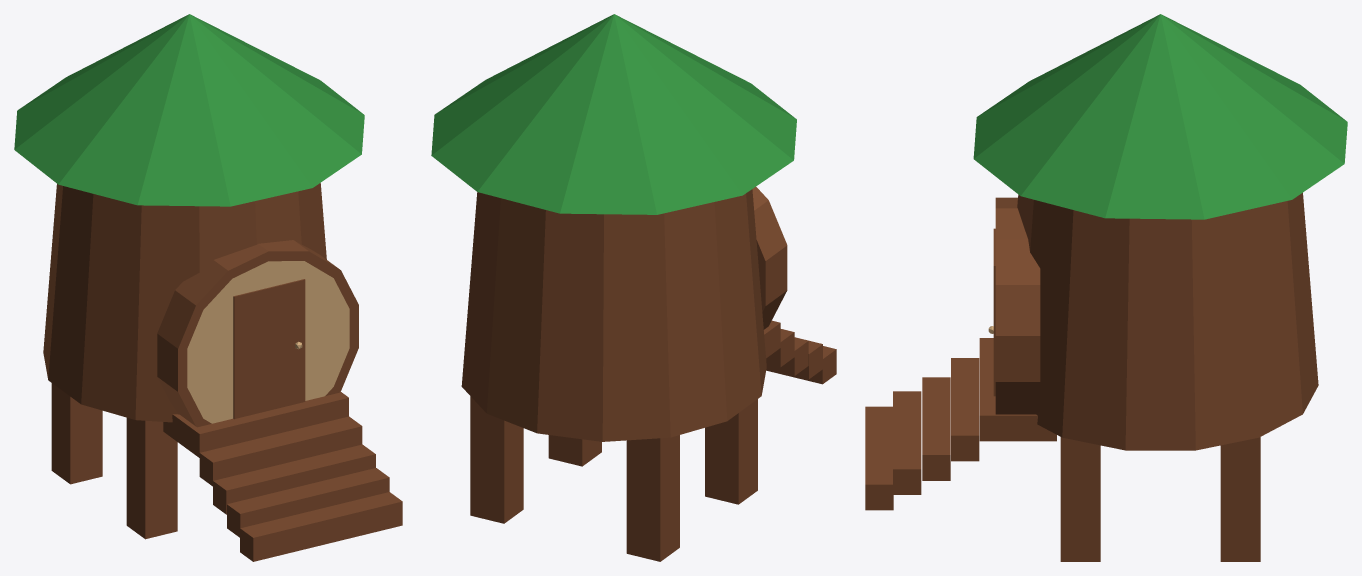
File: LowPolyHouse1.fbx
3 views of the same model, side by side, from view 1: azimuth 30°, elevation 25°; view 2: azimuth 150°, elevation 25°; view 3: azimuth 270°, elevation 25° (orthographic). The views are drawn at different scales.
Visible parts, largest first — view 1: Roof, House1, Door, Stairs, Feet; view 2: House1, Roof, Feet, Door, Stairs; view 3: House1, Roof, Stairs, Feet, Door.
Boxes of the visible parts, <box> form: Roof: <box>14,14,364,206</box>; House1: <box>43,183,326,422</box>; Door: <box>157,240,358,427</box>; Stairs: <box>163,391,402,561</box>; Feet: <box>51,383,177,539</box>; House1: <box>461,189,766,441</box>; Roof: <box>431,14,796,214</box>; Feet: <box>470,396,757,561</box>; Door: <box>752,187,787,329</box>; Stairs: <box>764,320,836,384</box>; House1: <box>1017,193,1318,450</box>; Roof: <box>973,14,1347,219</box>; Stairs: <box>865,338,1056,510</box>; Feet: <box>1060,437,1260,561</box>; Door: <box>988,197,1040,414</box>.
Bounding box in the file's own units: 852 × 1258 × 1099.
